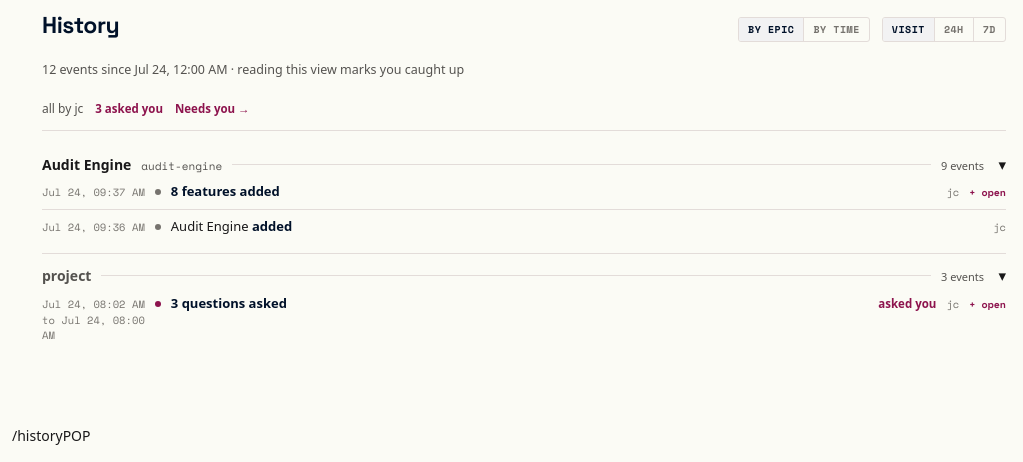
Test case: History view: the route and the window › a window switch replaces the URL rather than pushing a history entry
The width and height of the screenshot is (1023, 462).
Expected: the text "12 events" is shown, [42, 60, 464, 78]
Click the link "7d" at coordinates (989, 30), box [973, 18, 1005, 41]
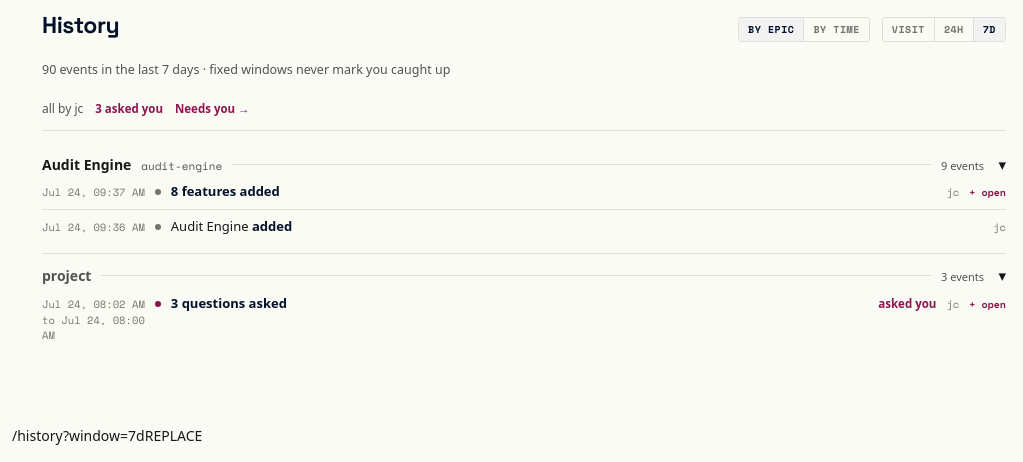
Now the text with test id "loc" reads "/history?window=7d", box [12, 426, 145, 445]
Now the text with test id "navtype" reads "REPLACE", box [145, 426, 202, 445]
